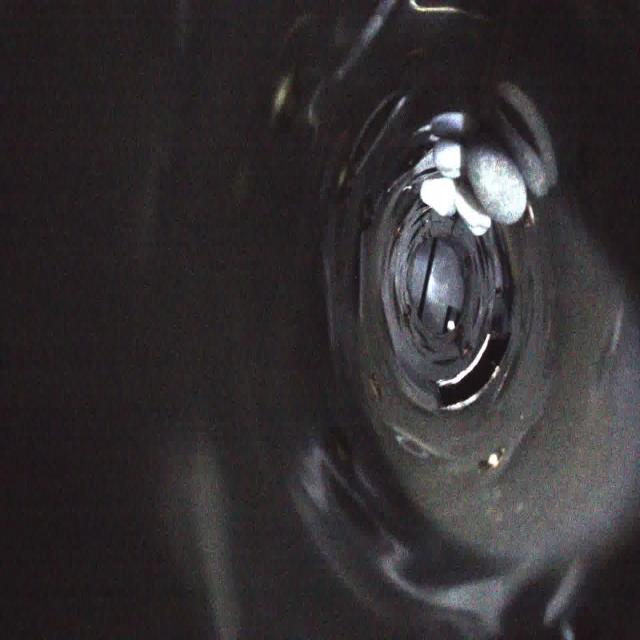crack: (471, 238, 503, 321), (375, 247, 403, 328)
hole: (431, 334, 513, 423)
